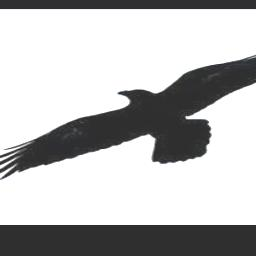Crow: (0, 44, 256, 181)
